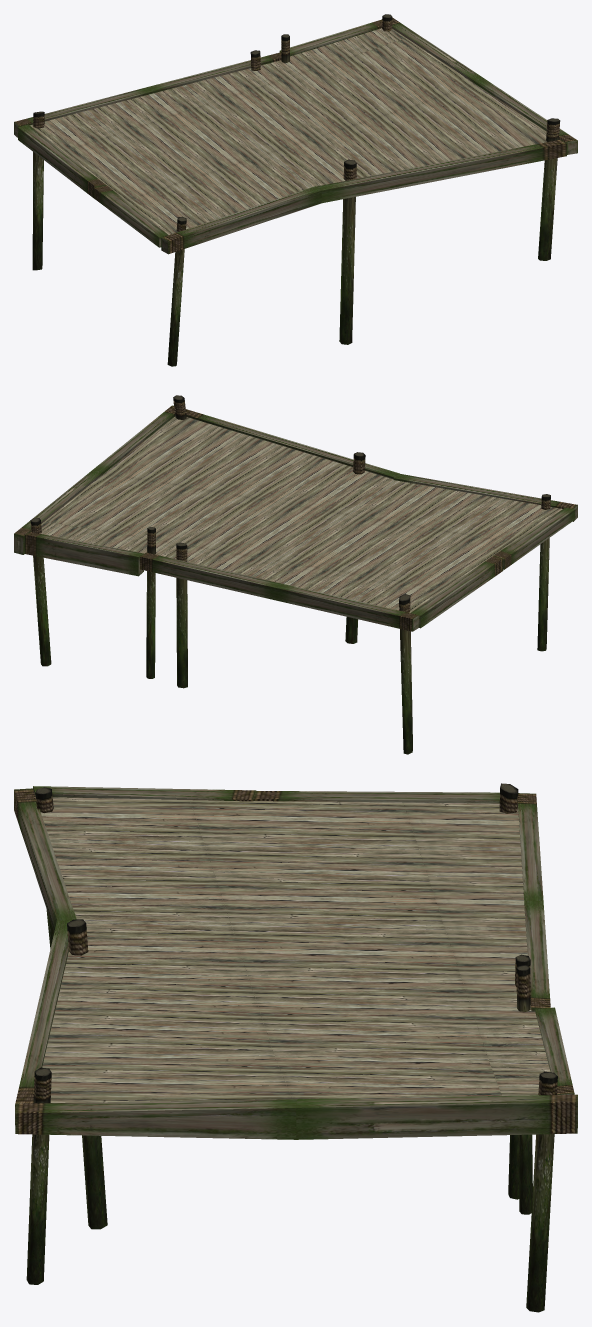
Rendered from pier_platform.fbx.
The picture shows the model from 3 angles, top to bottom: view 1: azimuth 30°, elevation 25°; view 2: azimuth 150°, elevation 25°; view 3: azimuth 270°, elevation 25°; orthographic projection. The views are drawn at different scales.
Visible parts, largest first — view 1: deck_top1, support_6, support_5, pylon_7, support_8, support_11, support_9, pylon_9, support_3, pylon_48, pylon_1, support_10; view 2: deck_top1, support_11, support_10, support_8, support_9, support_6, pylon_48, support_3, pylon_49, pylon_4, support_5, pylon_3 (+2 smaller); view 3: deck_top1, support_8, support_11, pylon_4, support_5, support_6, pylon_9, support_9, pylon_7, support_3, pylon_3, support_10 (+1 smaller).
Part boxes in pixels (<box>): deck_top1: <box>30,28,546,235</box>; support_6: <box>317,139,566,203</box>; support_5: <box>161,186,321,254</box>; pylon_7: <box>339,159,356,344</box>; support_8: <box>392,17,577,154</box>; support_11: <box>14,52,281,137</box>; support_9: <box>18,124,106,197</box>; pylon_9: <box>538,118,560,260</box>; support_3: <box>93,185,167,247</box>; pylon_48: <box>32,111,44,270</box>; pylon_1: <box>167,216,186,366</box>; support_10: <box>279,19,382,56</box>; deck_top1: <box>40,416,562,612</box>; support_11: <box>140,552,419,631</box>; support_10: <box>24,532,143,576</box>; support_8: <box>14,405,174,554</box>; support_9: <box>410,555,503,628</box>; support_6: <box>185,409,399,479</box>; pylon_48: <box>399,594,412,754</box>; support_3: <box>494,507,575,569</box>; pylon_49: <box>176,542,187,688</box>; pylon_4: <box>30,518,51,666</box>; support_5: <box>393,474,577,521</box>; pylon_3: <box>146,527,155,678</box>; deck_top1: <box>35,797,550,1102</box>; support_8: <box>15,1094,577,1139</box>; support_11: <box>518,793,550,1011</box>; pylon_4: <box>526,1071,557,1312</box>; support_5: <box>14,788,76,931</box>; support_6: <box>15,920,70,1124</box>; pylon_9: <box>26,1067,51,1284</box>; support_9: <box>253,791,499,803</box>; pylon_7: <box>67,919,107,1229</box>; support_3: <box>33,786,256,801</box>; pylon_3: <box>516,965,532,1214</box>; support_10: <box>535,1007,574,1094</box>.
Size of the model in its own units: 12514 by 5603 by 9105.
Materials: 2 (2 with a texture image).
